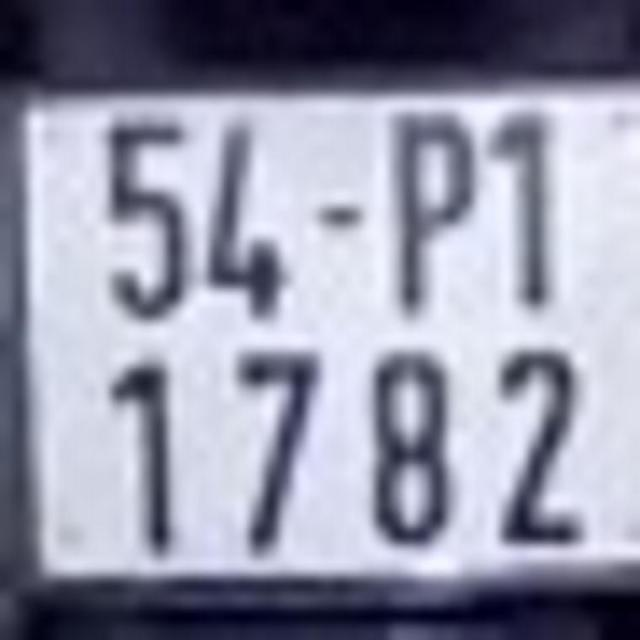1: (486, 90, 558, 309), (115, 354, 183, 553)
2: (486, 333, 582, 546)
4: (231, 334, 321, 554), (200, 104, 288, 322)
5: (97, 114, 192, 327)
8: (366, 340, 454, 556)
P: (382, 96, 484, 322)
